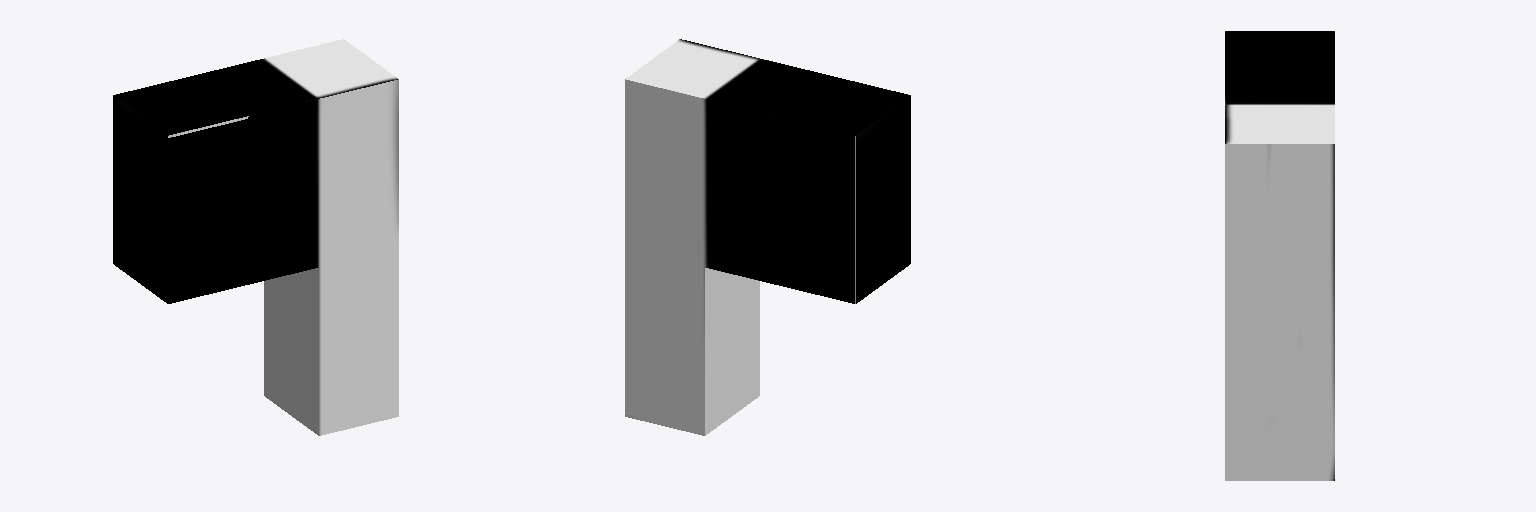
3 renders of one model, left to right at view 1: azimuth 30°, elevation 25°; view 2: azimuth 150°, elevation 25°; view 3: azimuth 270°, elevation 25°, orthographic.
Visible parts, largest first — view 1: Cube; view 2: Cube; view 3: Cube.
Part boxes in pixels (x1,y1,x2,y2): Cube: (113,39,398,435); Cube: (625,39,910,435); Cube: (1225,31,1334,480).
Size of the model in its own units: 1.43 by 2 by 0.593.
Materials: 1 (1 with a texture image).